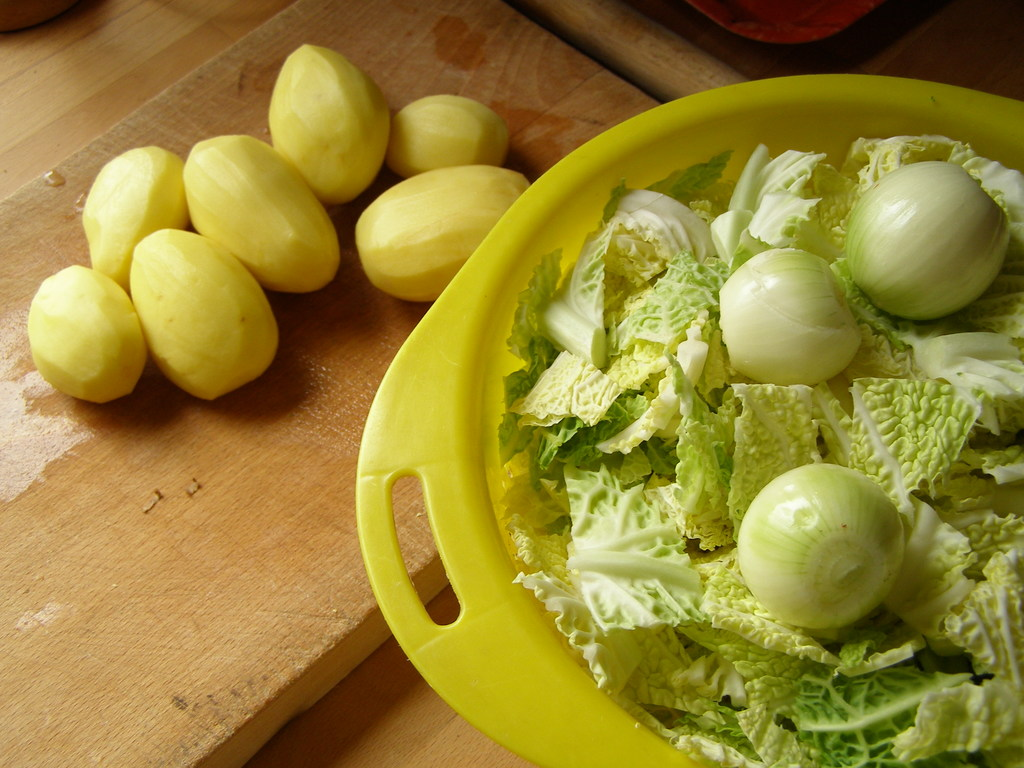salad: (501, 135, 1023, 767)
